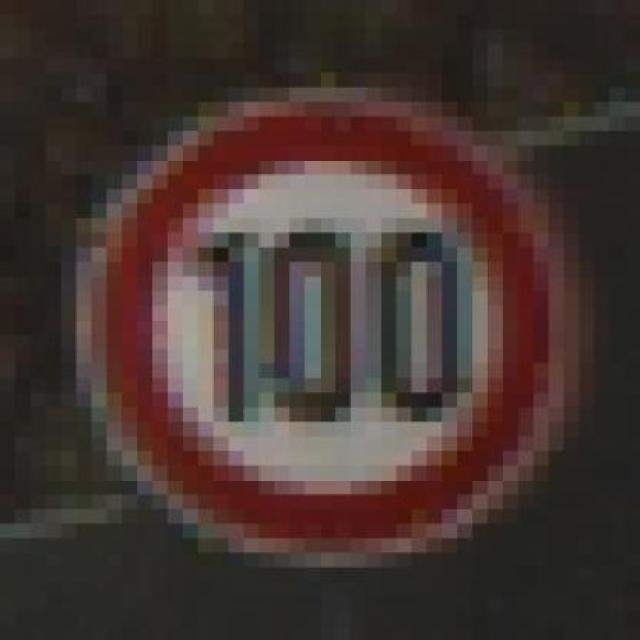forb_speed_over_100: (89, 100, 566, 560)
